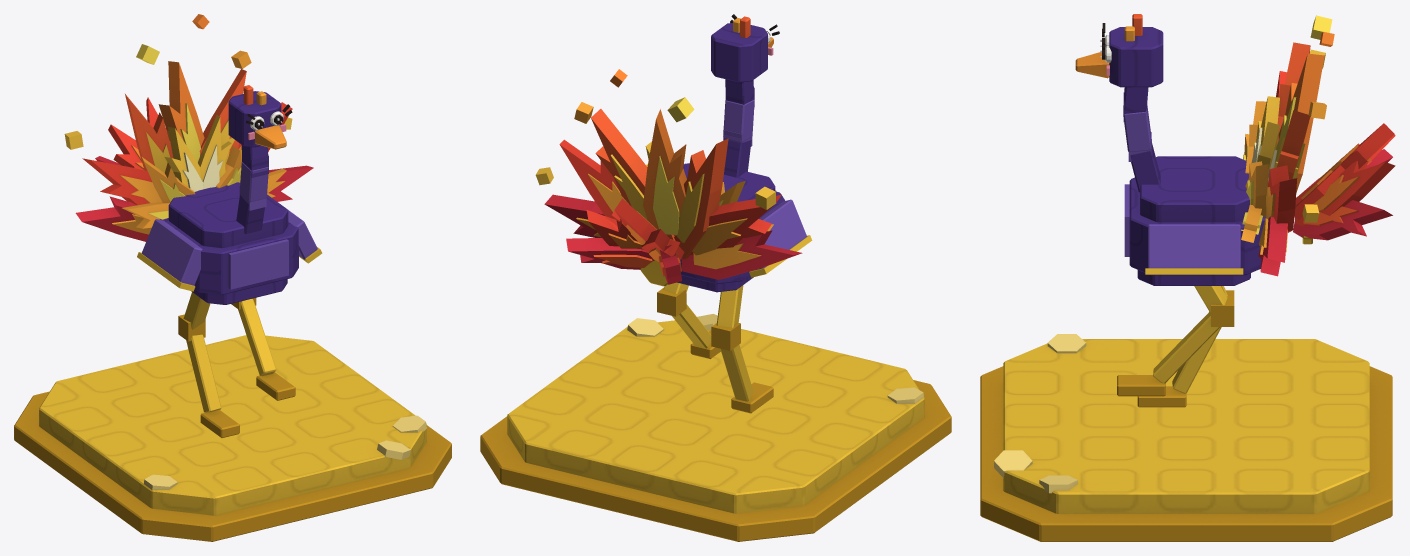
The model's file is BlazeOstrich.fbx.
3 views of the same model, side by side, from view 1: azimuth 30°, elevation 25°; view 2: azimuth 150°, elevation 25°; view 3: azimuth 270°, elevation 25° (orthographic). The views are drawn at different scales.
Parts seen in each view (by area): view 1: Art_BlazeOstrich_Stand, Art_BlazeOstrich_Fan, Art_BlazeOstrich_Body, Art_BlazeOstrich_LegL, Art_BlazeOstrich_Head, Art_BlazeOstrich_WingL, Art_BlazeOstrich_Neck, Art_BlazeOstrich_LegR, Art_BlazeOstrich_WingR; view 2: Art_BlazeOstrich_Stand, Art_BlazeOstrich_Fan, Art_BlazeOstrich_Head, Art_BlazeOstrich_LegL, Art_BlazeOstrich_Neck, Art_BlazeOstrich_LegR, Art_BlazeOstrich_Body, Art_BlazeOstrich_WingL; view 3: Art_BlazeOstrich_Stand, Art_BlazeOstrich_Fan, Art_BlazeOstrich_Body, Art_BlazeOstrich_WingR, Art_BlazeOstrich_Head, Art_BlazeOstrich_LegR, Art_BlazeOstrich_Neck, Art_BlazeOstrich_LegL.
Part boxes in pixels (x1=…): Art_BlazeOstrich_Stand: x1=14, y1=335, x2=451, y2=541; Art_BlazeOstrich_Fan: x1=64, y1=14, x2=313, y2=241; Art_BlazeOstrich_Body: x1=159, y1=182, x2=298, y2=304; Art_BlazeOstrich_LegL: x1=178, y1=292, x2=239, y2=437; Art_BlazeOstrich_Head: x1=228, y1=85, x2=292, y2=149; Art_BlazeOstrich_WingL: x1=137, y1=219, x2=202, y2=291; Art_BlazeOstrich_Neck: x1=236, y1=145, x2=268, y2=234; Art_BlazeOstrich_LegR: x1=231, y1=298, x2=295, y2=400; Art_BlazeOstrich_WingR: x1=288, y1=210, x2=322, y2=263; Art_BlazeOstrich_Stand: x1=480, y1=314, x2=951, y2=541; Art_BlazeOstrich_Fan: x1=535, y1=69, x2=802, y2=286; Art_BlazeOstrich_Head: x1=711, y1=14, x2=779, y2=82; Art_BlazeOstrich_LegL: x1=711, y1=285, x2=773, y2=413; Art_BlazeOstrich_Neck: x1=723, y1=79, x2=754, y2=177; Art_BlazeOstrich_LegR: x1=657, y1=282, x2=720, y2=358; Art_BlazeOstrich_Body: x1=677, y1=163, x2=785, y2=292; Art_BlazeOstrich_WingL: x1=749, y1=199, x2=812, y2=277; Art_BlazeOstrich_Stand: x1=980, y1=334, x2=1392, y2=541; Art_BlazeOstrich_Fan: x1=1241, y1=15, x2=1395, y2=276; Art_BlazeOstrich_Body: x1=1124, y1=156, x2=1266, y2=285; Art_BlazeOstrich_WingR: x1=1145, y1=224, x2=1243, y2=274; Art_BlazeOstrich_Head: x1=1075, y1=14, x2=1163, y2=87; Art_BlazeOstrich_LegR: x1=1117, y1=286, x2=1234, y2=396; Art_BlazeOstrich_Neck: x1=1123, y1=87, x2=1160, y2=192; Art_BlazeOstrich_LegL: x1=1137, y1=286, x2=1234, y2=407.
Size of the model in its own units: 3.2 by 3.77 by 3.22.
